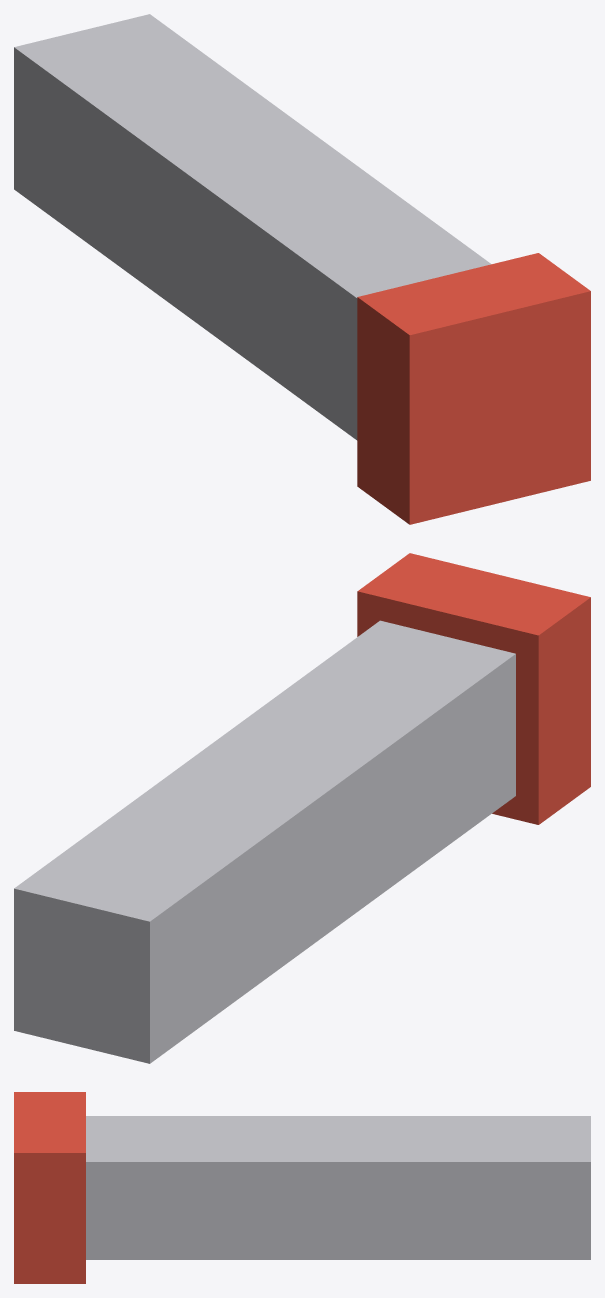
The model's file is piston_rod.gltf.
The picture shows the model from 3 angles, top to bottom: view 1: azimuth 30°, elevation 25°; view 2: azimuth 150°, elevation 25°; view 3: azimuth 270°, elevation 25°; orthographic projection. The views are drawn at different scales.
Visible parts, largest first — view 1: piston_rod; view 2: piston_rod; view 3: piston_rod.
Part boxes in pixels (x1,y1,x2,y2): piston_rod: [14, 14, 590, 524]; piston_rod: [14, 553, 590, 1063]; piston_rod: [14, 1092, 590, 1283].
Size of the model in its own units: 0.25 by 0.25 by 1.
